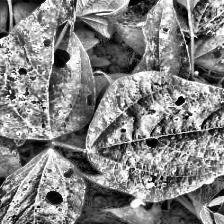ALS: (89, 73, 224, 204), (0, 0, 101, 140), (0, 149, 85, 224)
